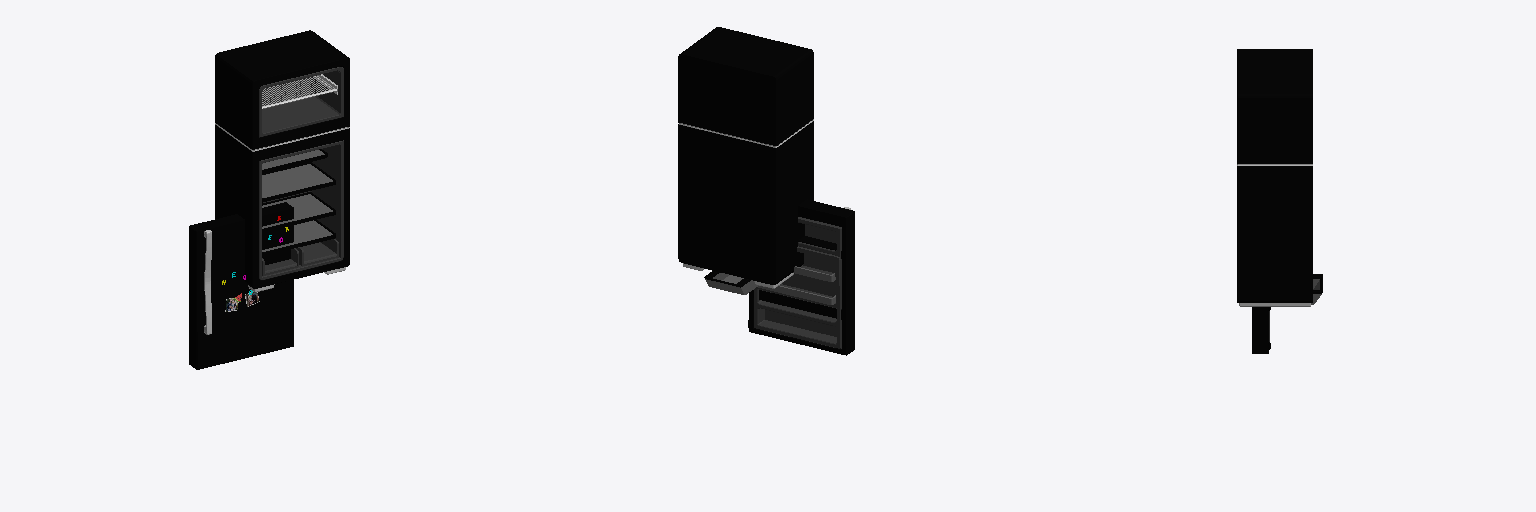
The picture shows the model from 3 angles: view 1: azimuth 30°, elevation 25°; view 2: azimuth 150°, elevation 25°; view 3: azimuth 270°, elevation 25°; orthographic projection.
Parts seen in each view (by area): view 1: FridgeBodyMesh_0, Mesh_4, Mesh_3; view 2: FridgeBodyMesh_0, Mesh_4, Mesh_3; view 3: FridgeBodyMesh_0, Mesh_4.
Boxes of the visible parts, x1=… form: FridgeBodyMesh_0: x1=215, y1=30, x2=349, y2=291; Mesh_4: x1=189, y1=202, x2=293, y2=369; Mesh_3: x1=204, y1=281, x2=259, y2=334; FridgeBodyMesh_0: x1=678, y1=27, x2=813, y2=288; Mesh_4: x1=748, y1=199, x2=854, y2=355; Mesh_3: x1=749, y1=236, x2=845, y2=320; FridgeBodyMesh_0: x1=1237, y1=49, x2=1312, y2=306; Mesh_4: x1=1252, y1=307, x2=1270, y2=353.
Bounding box in the file's own units: 1.44 × 3.7 × 0.7334.
7 materials, 1 textured.